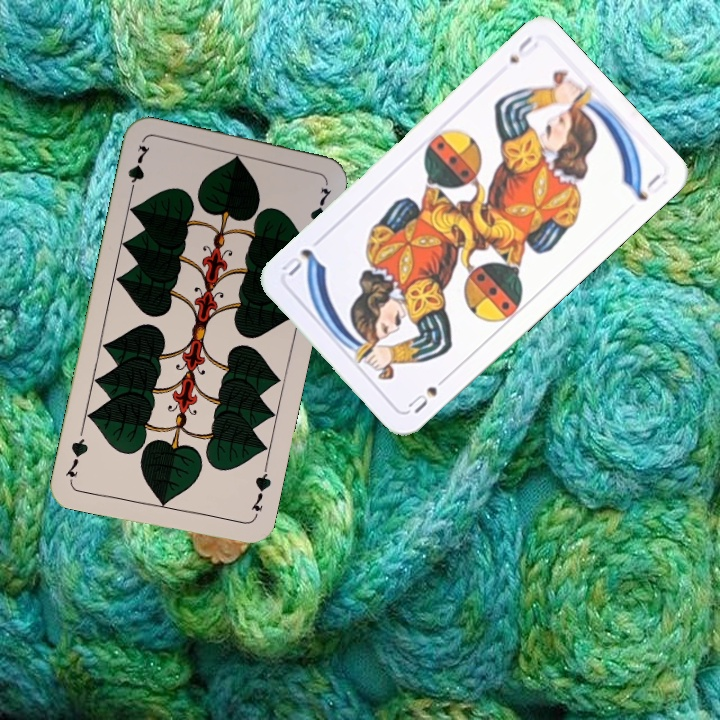G7: (123, 140, 153, 199), (247, 463, 274, 522)
SU: (403, 370, 452, 416), (505, 32, 541, 66)
